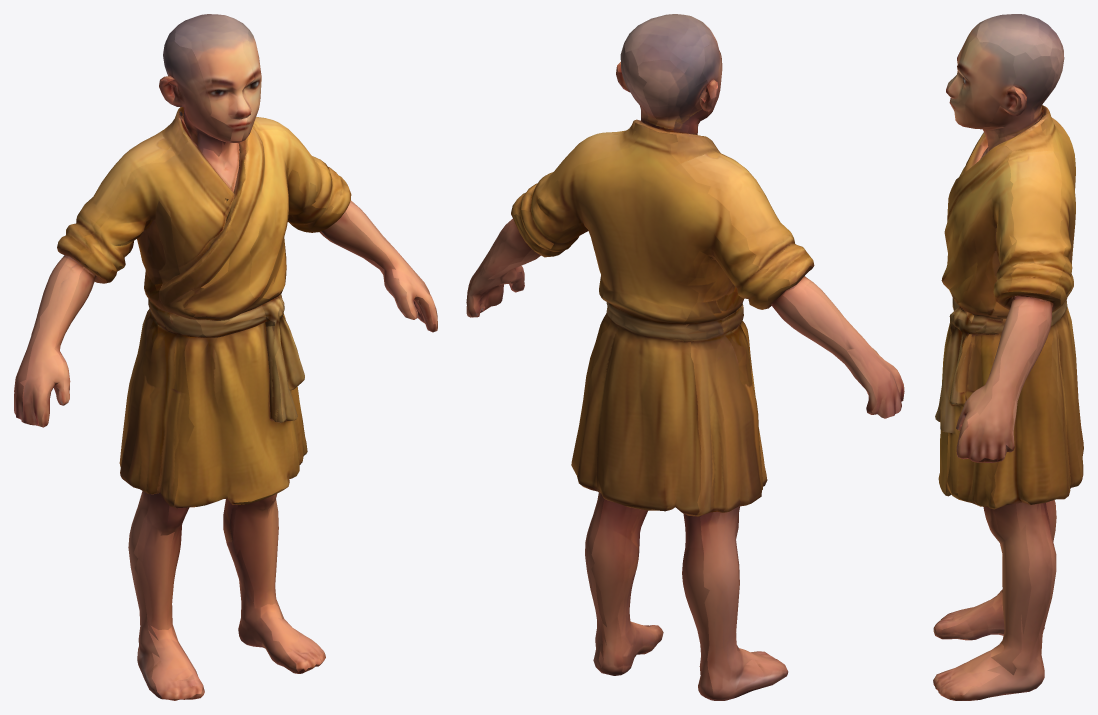
The model's file is libin_mesh_glb.glb.
3 views of the same model, side by side, from view 1: azimuth 30°, elevation 25°; view 2: azimuth 150°, elevation 25°; view 3: azimuth 270°, elevation 25° (orthographic). The views are drawn at different scales.
Visible parts, largest first — view 1: geometry_0; view 2: geometry_0; view 3: geometry_0.
Boxes of the visible parts, bbox=[...] form: geometry_0: bbox=[14, 14, 437, 700]; geometry_0: bbox=[466, 14, 904, 700]; geometry_0: bbox=[933, 14, 1083, 700].
Bounding box in the file's own units: 0.879 × 1.3 × 0.2767.
Materials: 1 (1 with a texture image).
